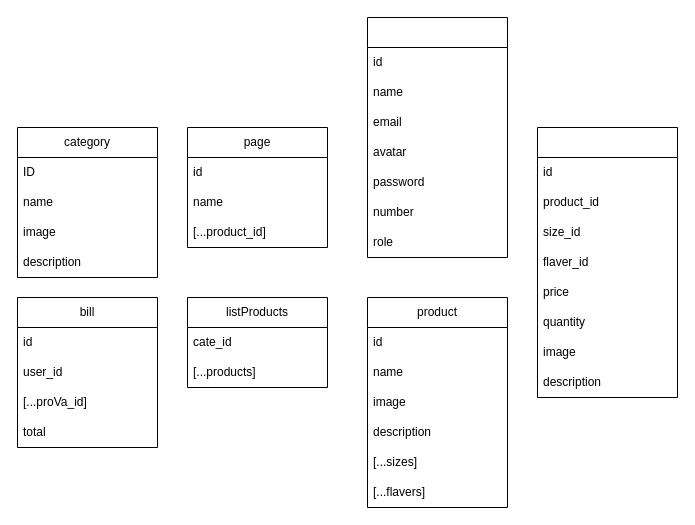
The diagram is 695 pixels wide and 525 high, and some of its shapes have lost their labels. Here are the shapes that lost their labels. From the top down, the box of each, then its label:
(366, 16, 508, 258): user
(536, 126, 678, 398): productVariants
